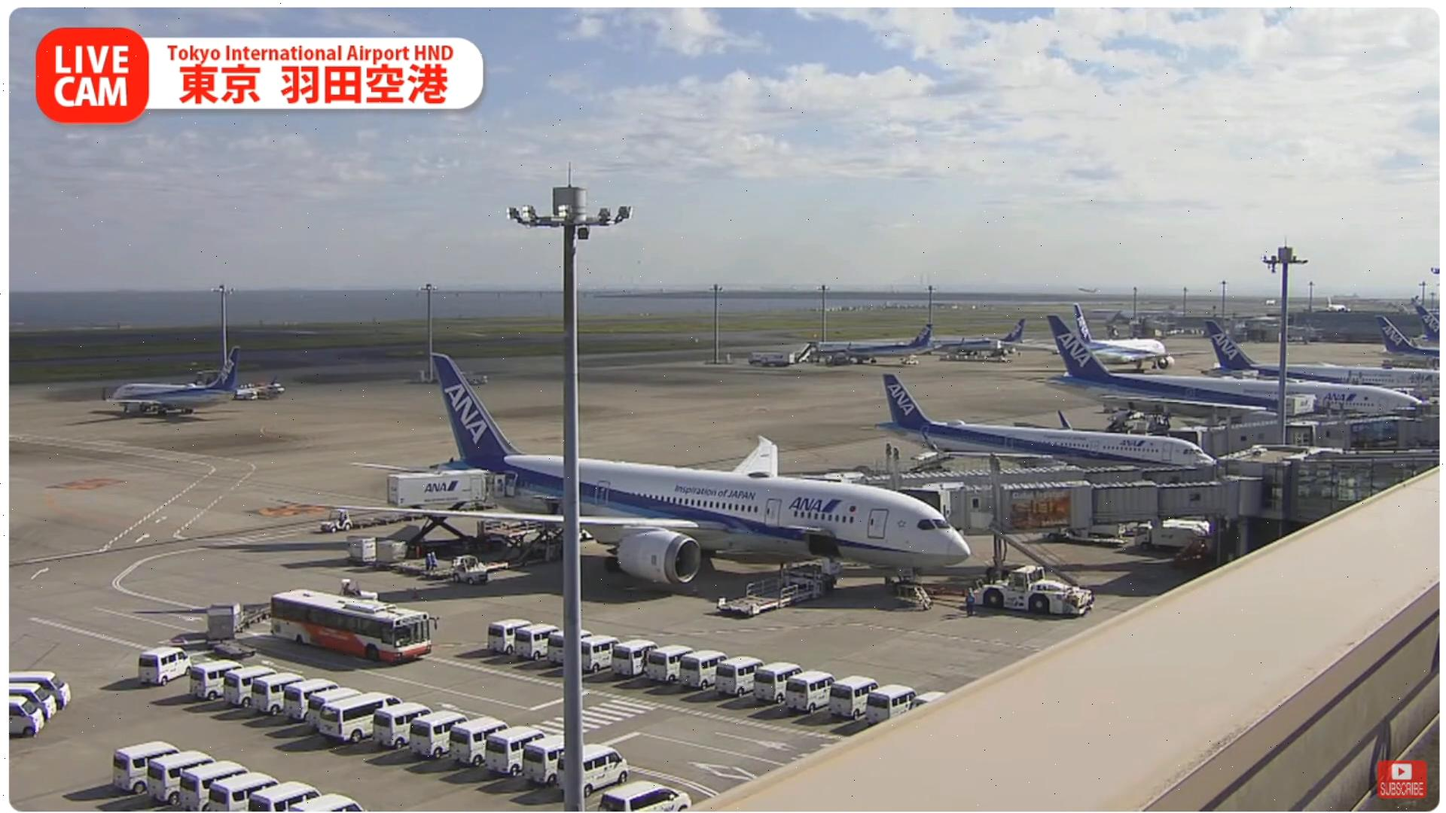APS: (969, 564, 1106, 619)
Aerobridge: (845, 460, 1217, 536), (991, 476, 1264, 540)
Airplane: (330, 354, 973, 599)
Catering: (387, 467, 515, 558)
Dolly: (359, 551, 456, 578), (352, 510, 428, 529)
JCPL: (714, 553, 842, 618), (481, 516, 567, 568)
Tractor: (452, 551, 489, 584), (321, 503, 354, 534)
Window: (1290, 456, 1440, 523)
